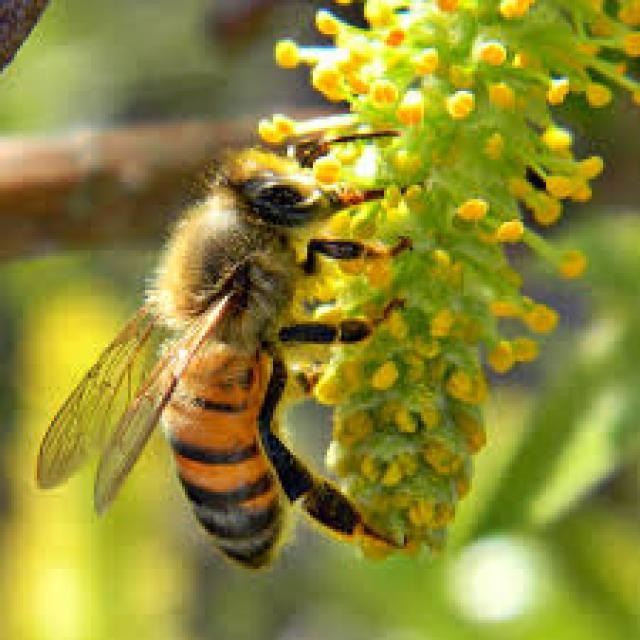Bees: (38, 127, 414, 568)
